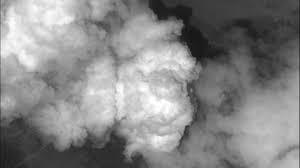smoke: (1, 3, 202, 156)
